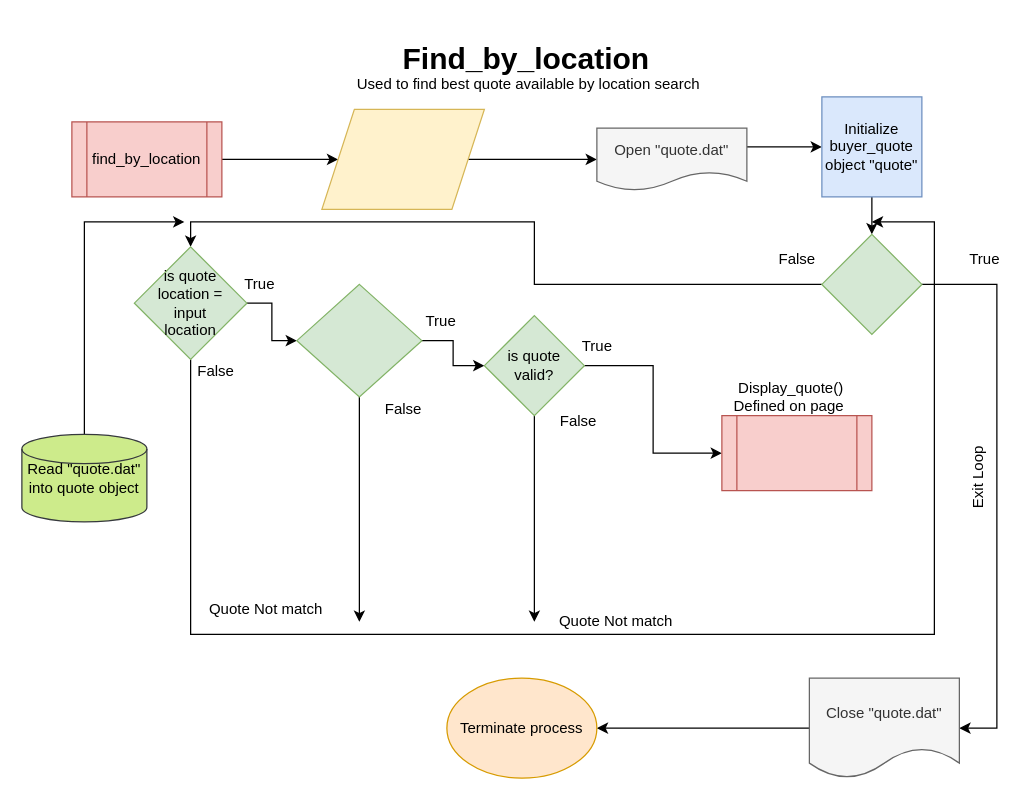
This 1031x800 diagram has some shape labels left out. Here are the shapes that lost their labels. From the top down, the centre of each, then its label:
At [402,158]: "Request user to input location and crop area".
At [871,283]: "if End of file".
At [359,340]: "is quote crop = input crop".
At [796,452]: "Display quote".
